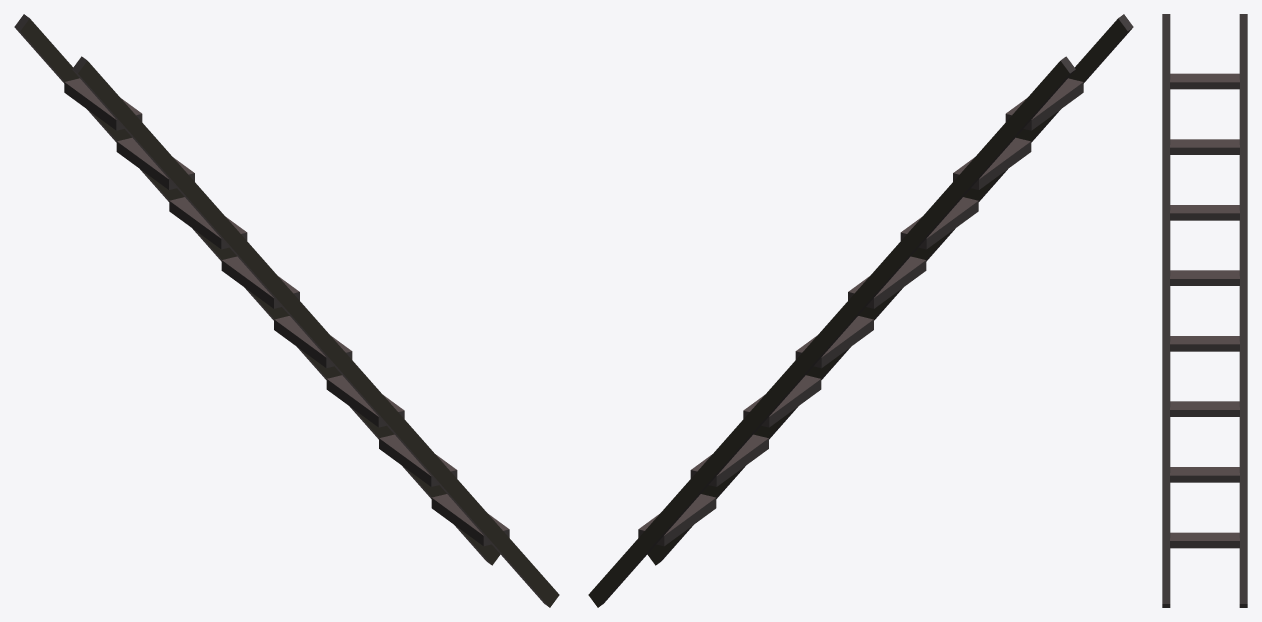
Rendered from TB_CITY_BD_Stair_C.FBX.
The picture shows the model from 3 angles, left to right: view 1: azimuth 30°, elevation 25°; view 2: azimuth 150°, elevation 25°; view 3: azimuth 270°, elevation 25°; orthographic projection. The views are drawn at different scales.
Visible parts, largest first — view 1: TB_CITY_BD_Stair_C; view 2: TB_CITY_BD_Stair_C; view 3: TB_CITY_BD_Stair_C.
Part boxes in pixels (x1,y1,x2,y2): TB_CITY_BD_Stair_C: (14,14,559,607); TB_CITY_BD_Stair_C: (588,14,1133,607); TB_CITY_BD_Stair_C: (1162,14,1247,607).
Bounding box in the file's own units: 3.77 × 4.93 × 0.8613.
